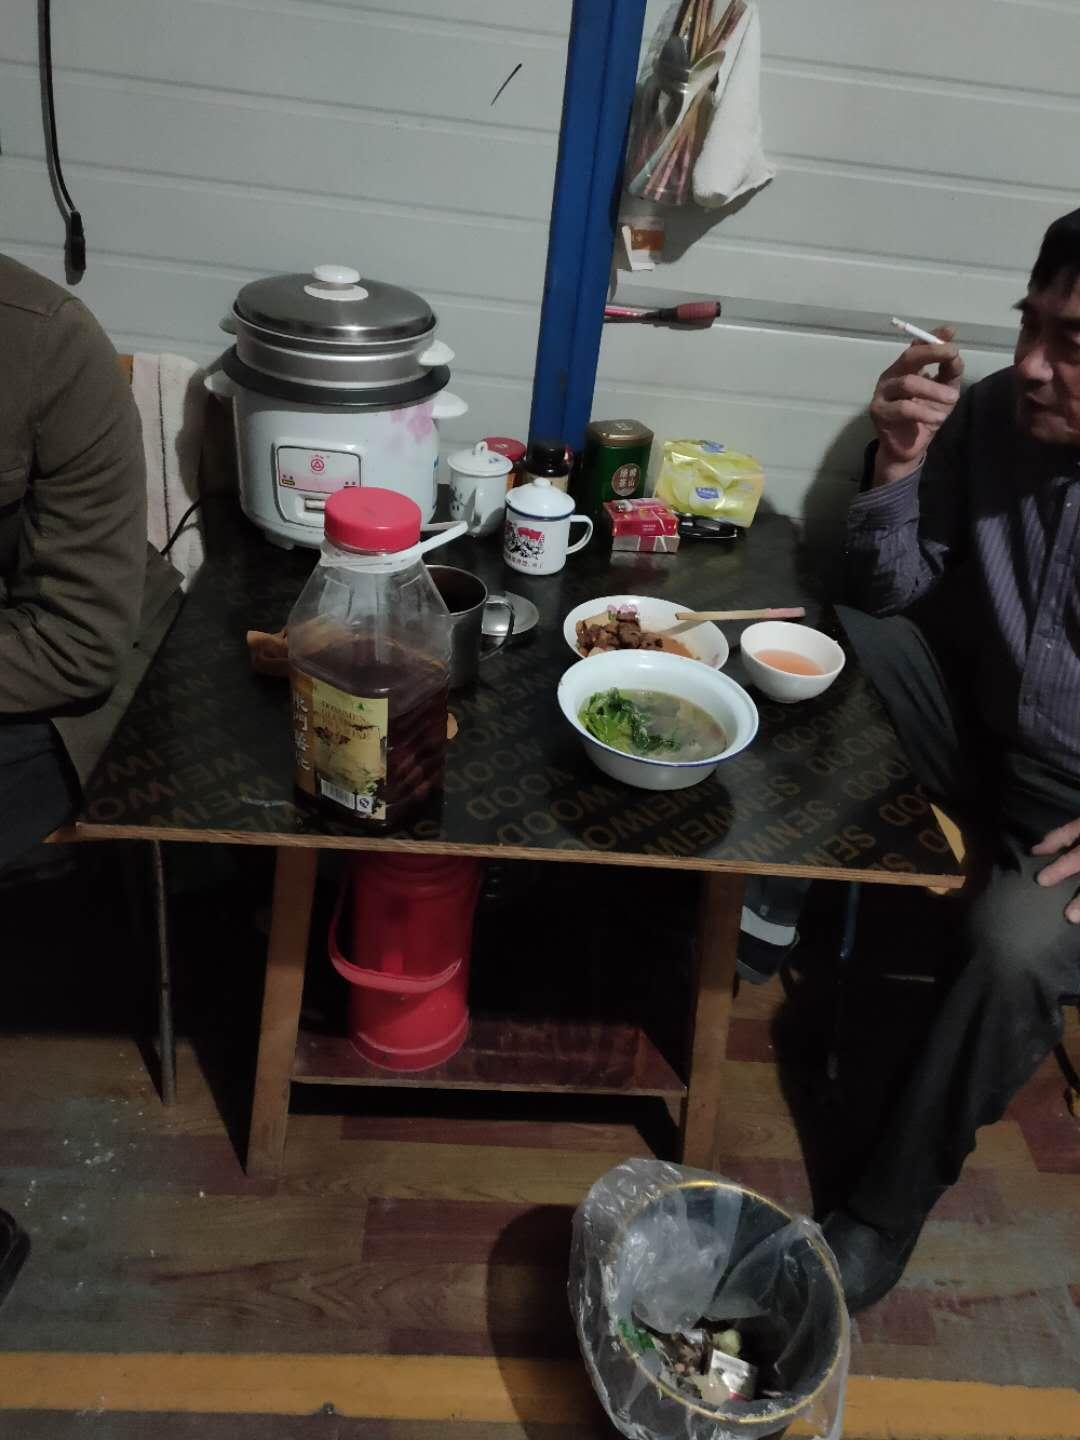Cigarette: (888, 314, 953, 346)
